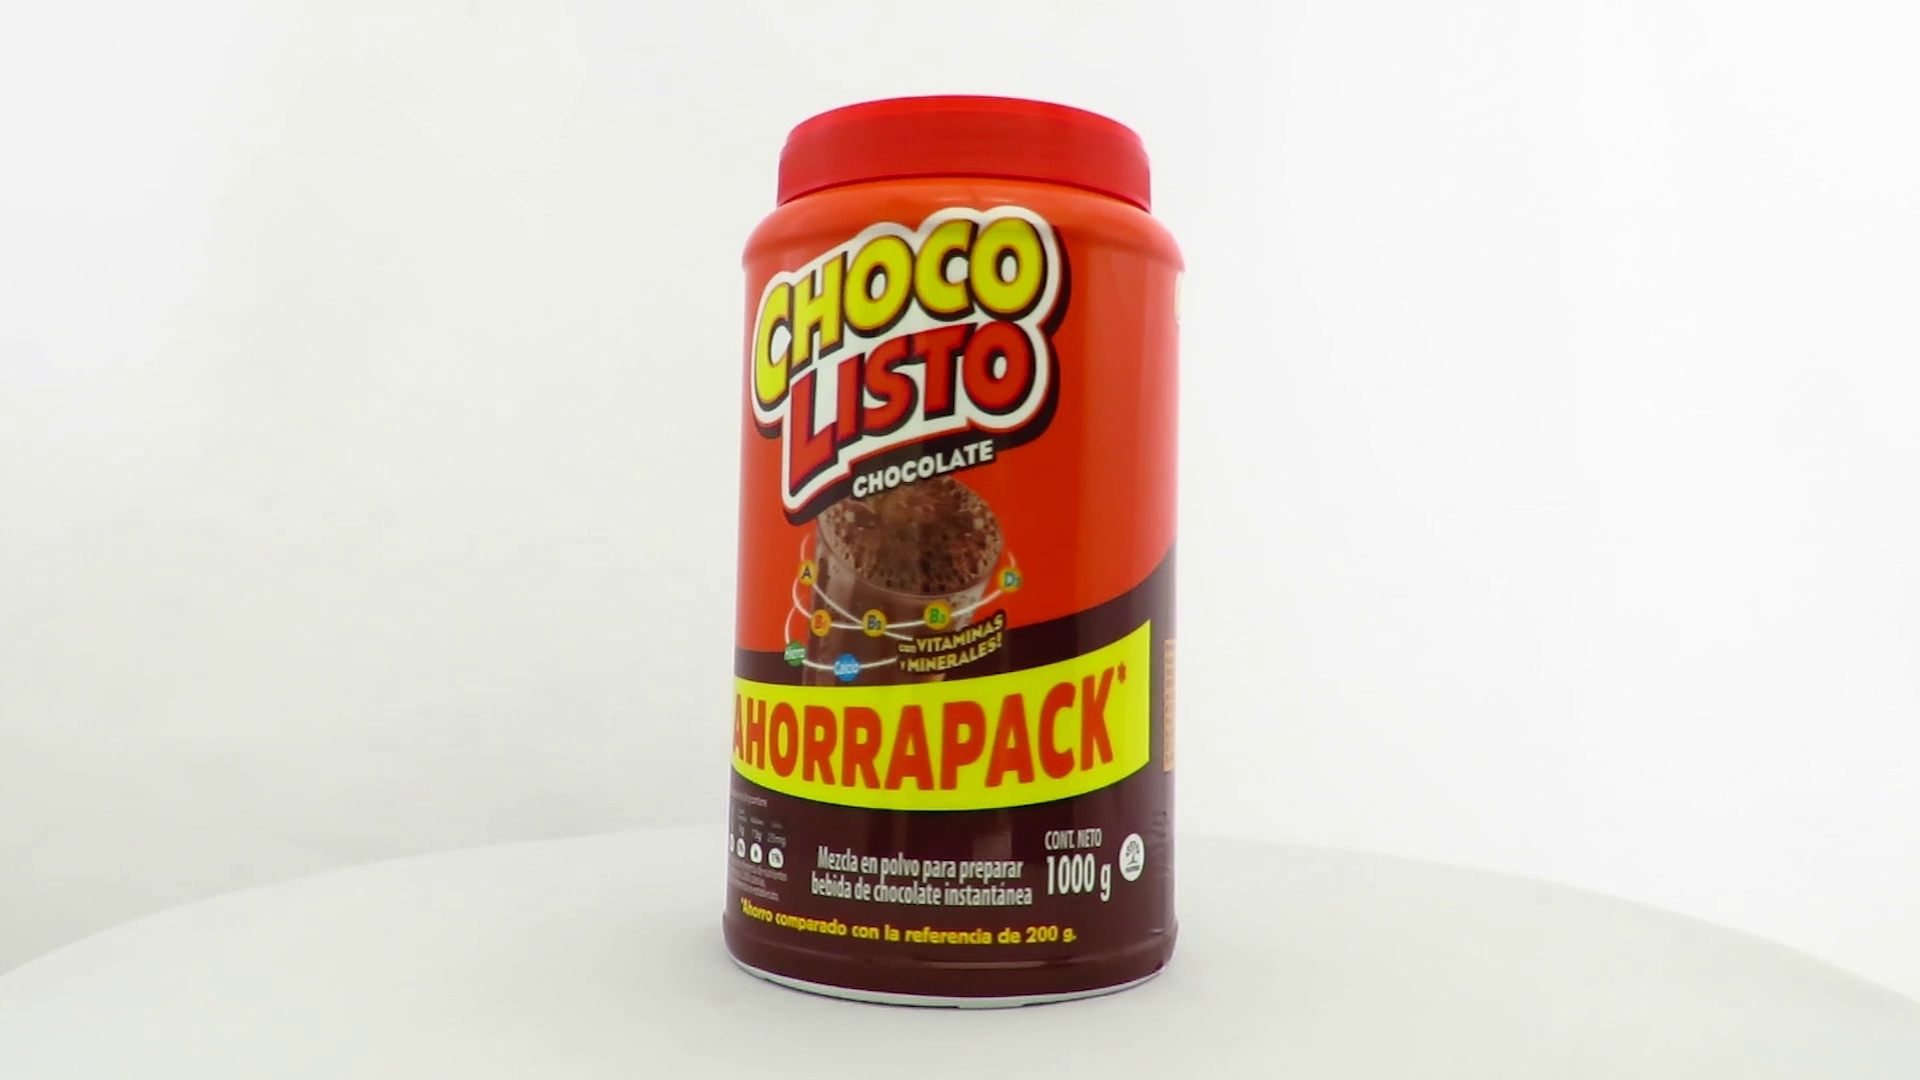COL0170103TRR00100: (717, 90, 1192, 1017)
